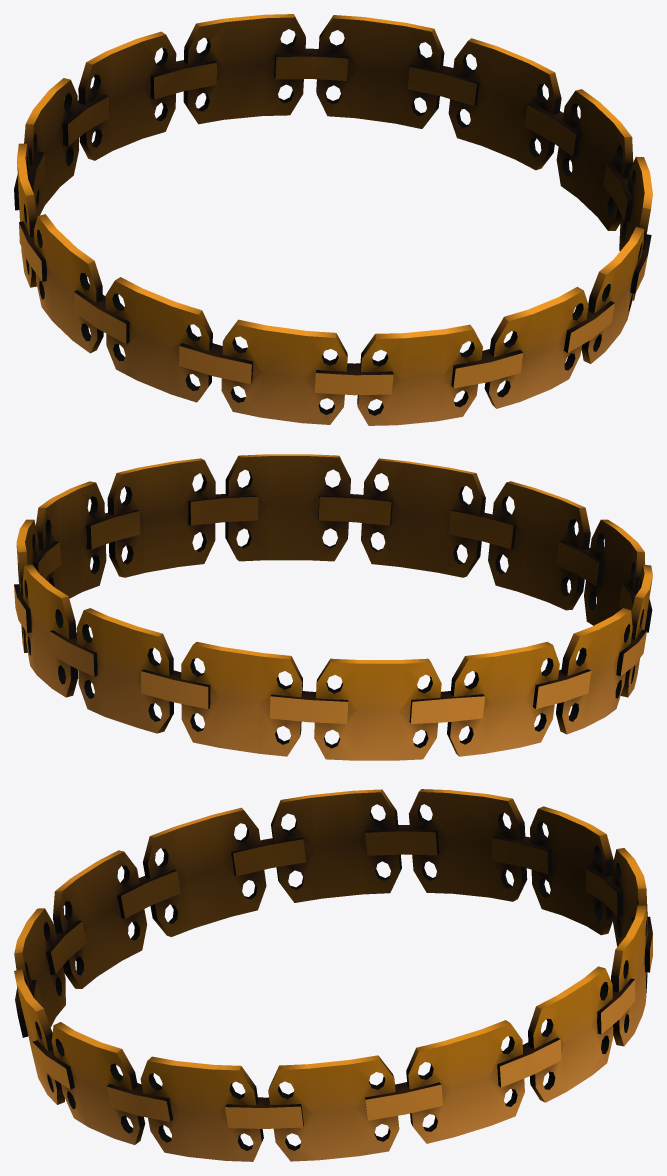
Rendered from Belt_Eastern_Armor_Belt.gltf.
The picture shows the model from 3 angles, top to bottom: view 1: azimuth 30°, elevation 25°; view 2: azimuth 150°, elevation 25°; view 3: azimuth 270°, elevation 25°; orthographic projection.
Visible parts, largest first — view 1: Belt_Eastern_Armor_Belt; view 2: Belt_Eastern_Armor_Belt; view 3: Belt_Eastern_Armor_Belt.
Boxes of the visible parts, x1,y1,x2,y2 form: Belt_Eastern_Armor_Belt: [14, 14, 652, 425]; Belt_Eastern_Armor_Belt: [14, 454, 652, 760]; Belt_Eastern_Armor_Belt: [14, 789, 652, 1161].
Bounding box in the file's own units: 0.7746 × 0.218 × 0.7771.
Materials: 1 (1 with a texture image).
